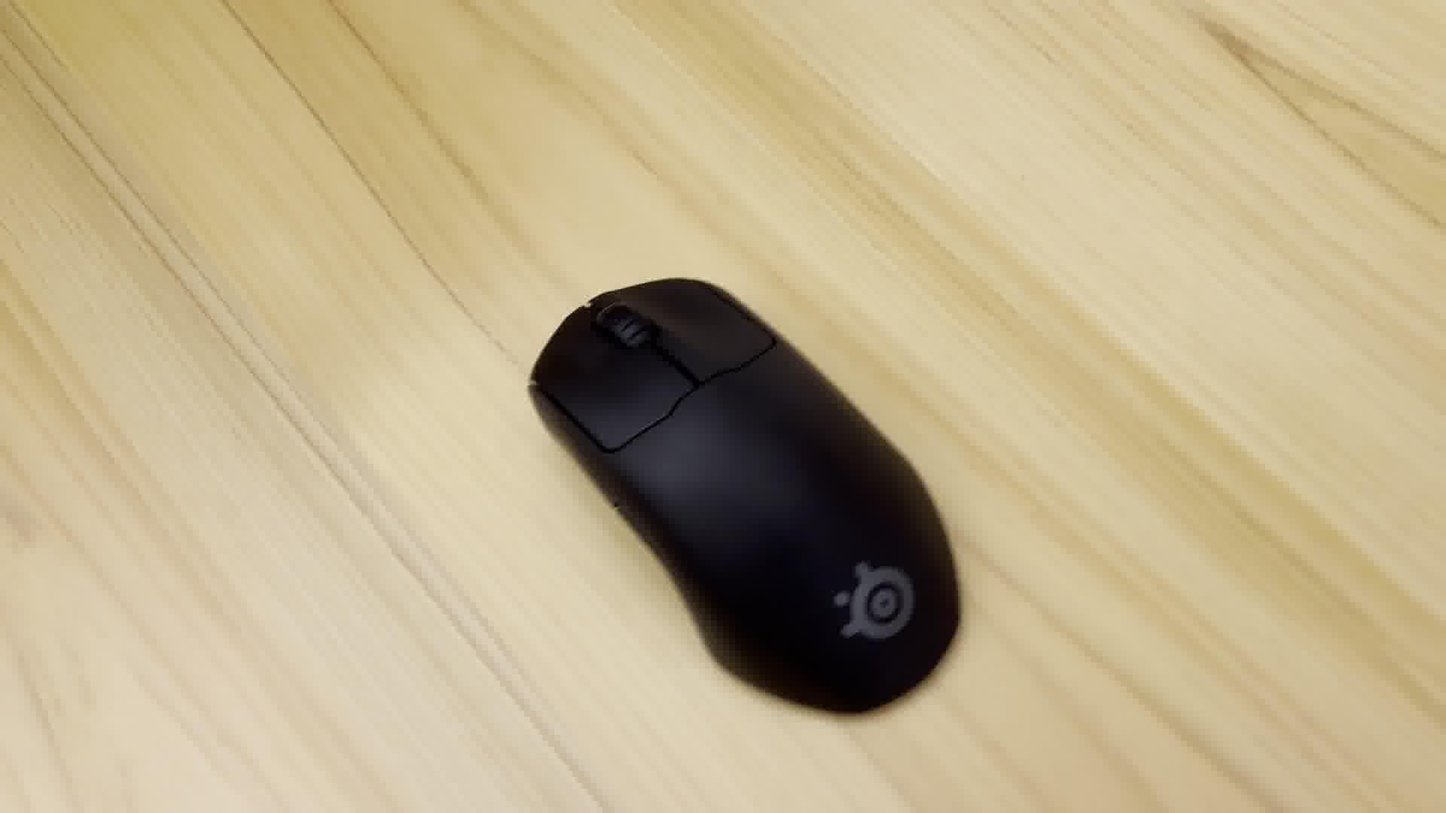steel-series: (517, 263, 978, 731)
